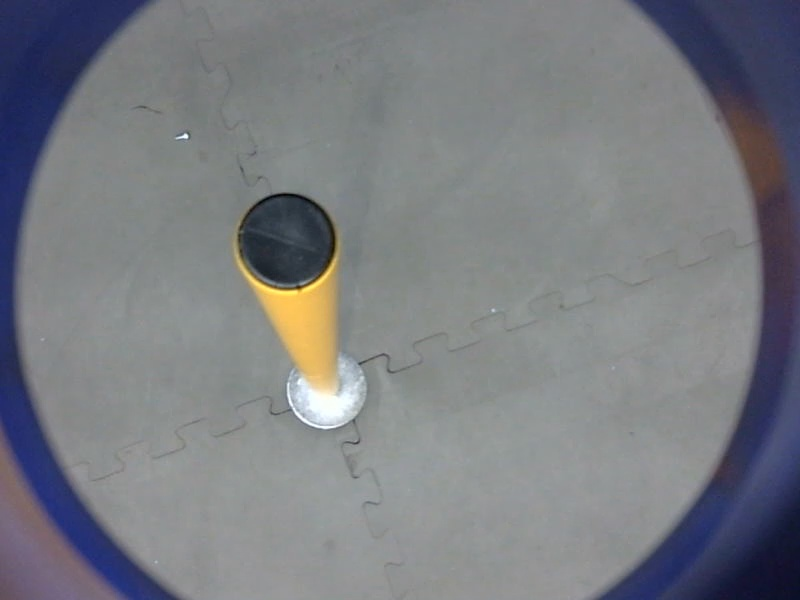tip: (228, 186, 343, 296)
